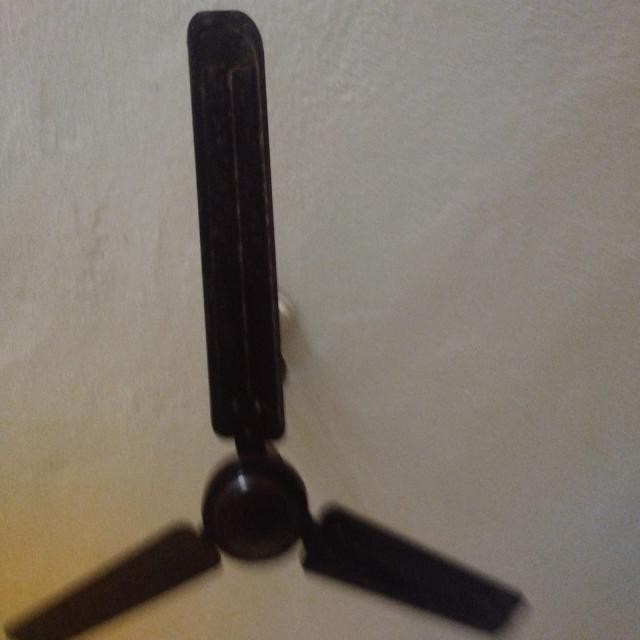fan_off: (4, 6, 529, 637)
